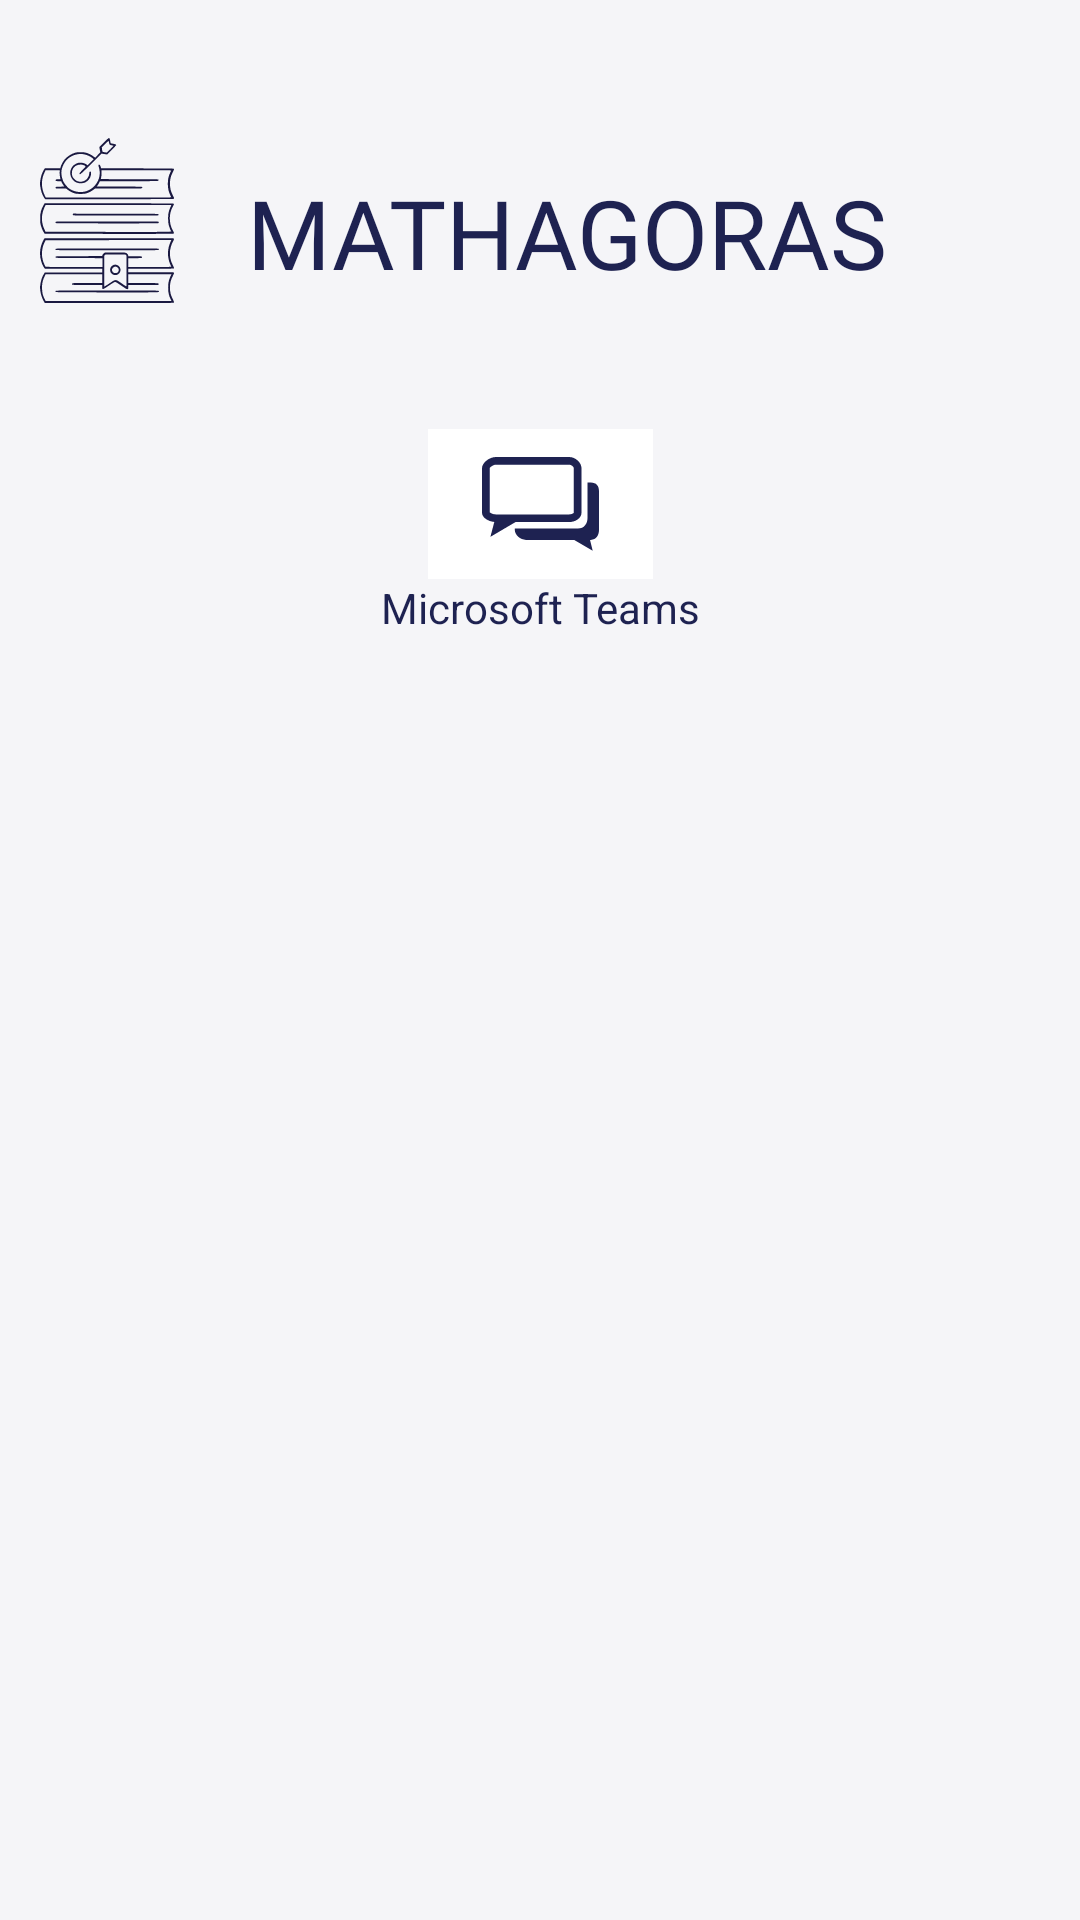

Locate icon controls on the screen. Image size 1080w x 1920h, boxes as (x1, y1, x2, y2).
classdiscussions: (428, 429, 653, 579)
